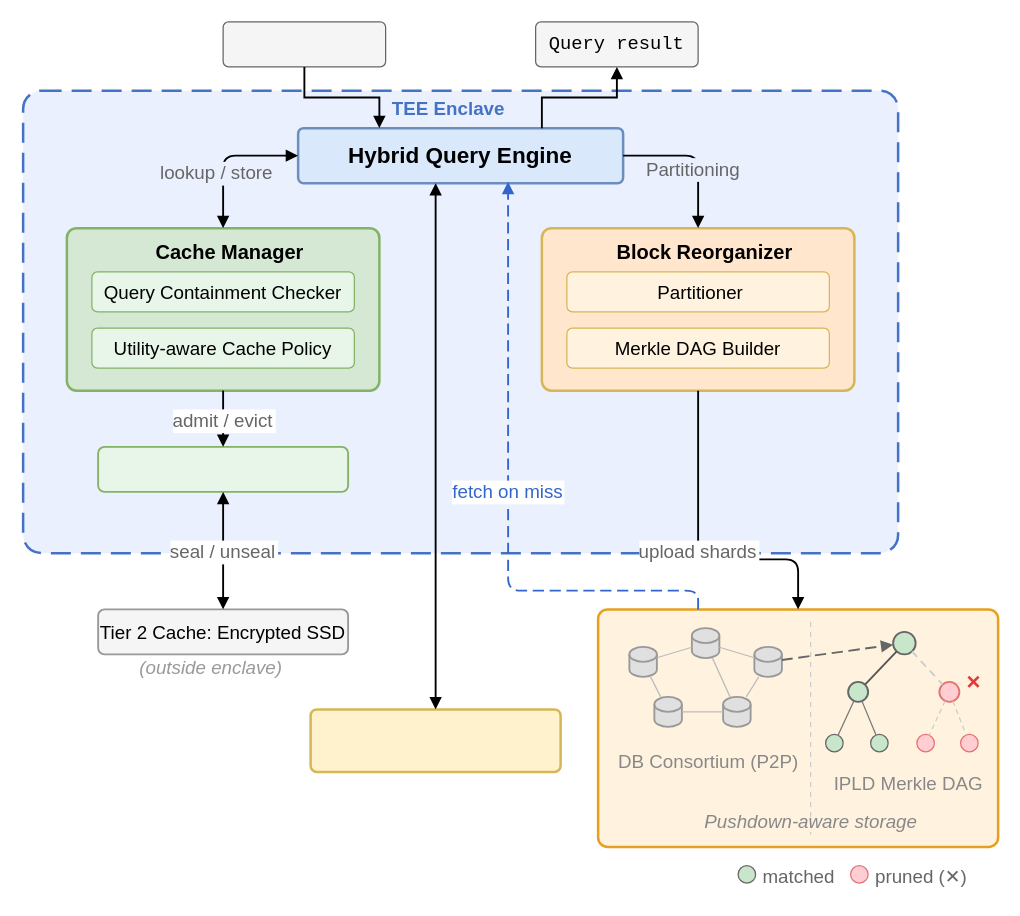
Some shapes in this 1020 by 916 pixel diagram are drawn without their labels. Each missing label, with the centre of its shape:
Blockchain (On-chain Metadata): (x=435, y=740)
Query plan: (x=304, y=44)
Tier 1 Cache: Enclave Memory: (x=222, y=468)
